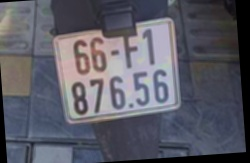Bien-so: (52, 13, 185, 128)
